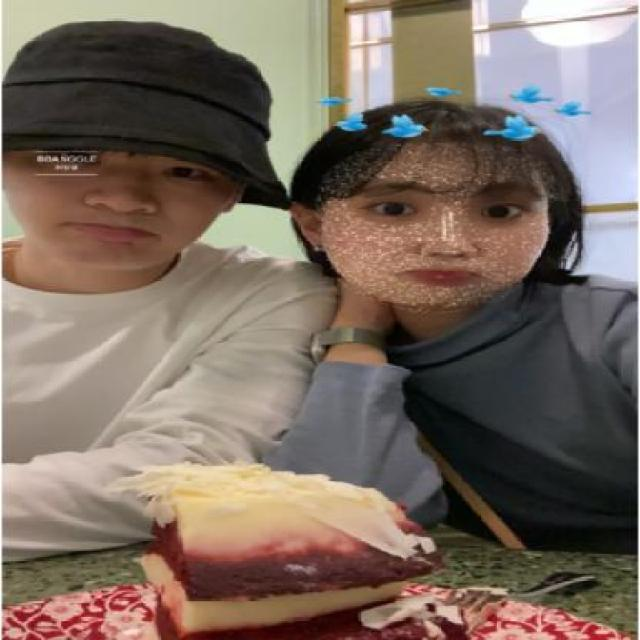hat: (3, 15, 288, 211)
